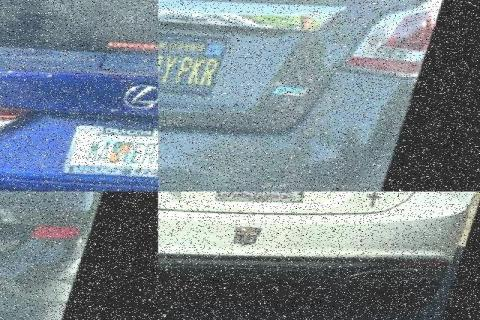LicensePlate: (158, 28, 238, 96), (66, 125, 157, 179), (0, 192, 49, 222), (218, 191, 309, 203)
